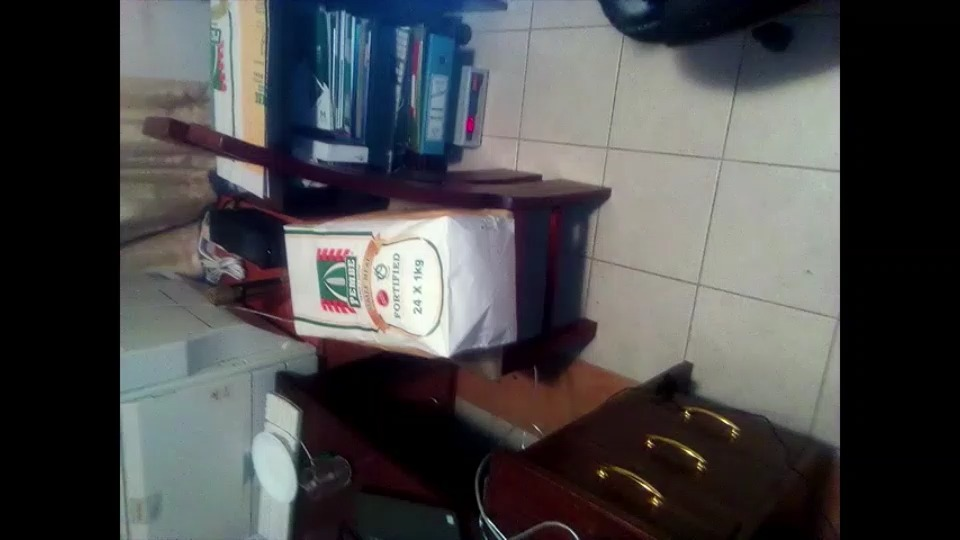maize_flour_green_label: (285, 213, 520, 358)
